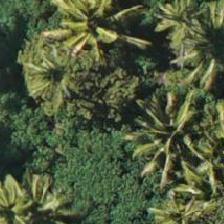coconut_tree: (128, 92, 218, 182), (43, 0, 133, 63), (135, 166, 223, 223), (174, 3, 223, 93), (0, 174, 82, 223)
